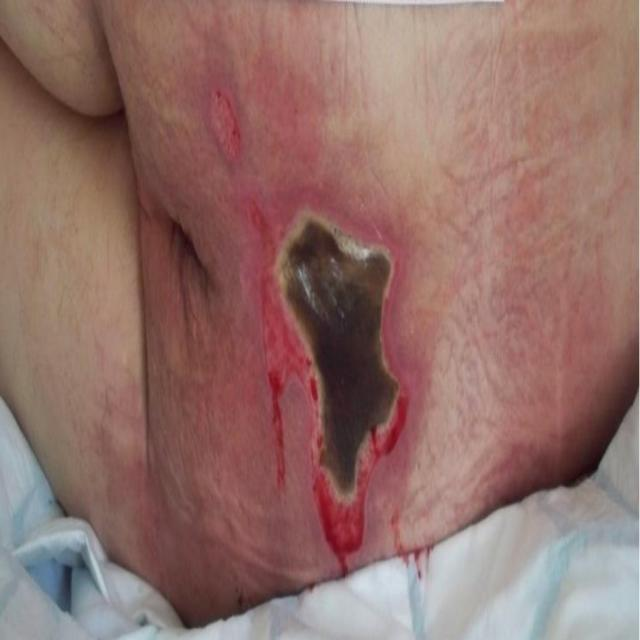Unstageable: (253, 206, 408, 574)
stage-2: (211, 88, 241, 161)
